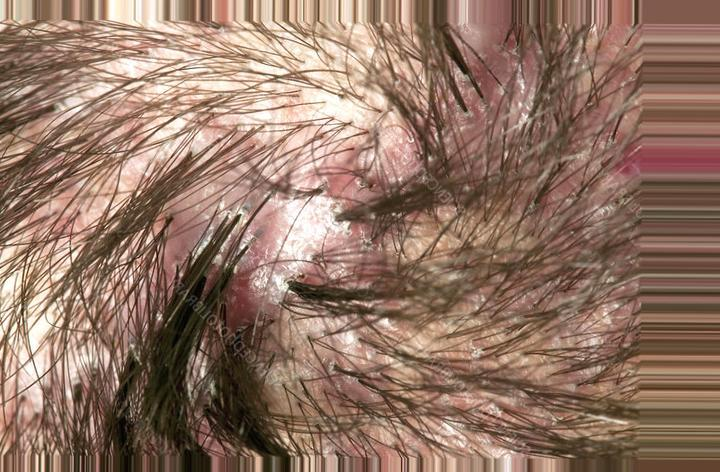Folliculitis: (164, 91, 438, 366)
